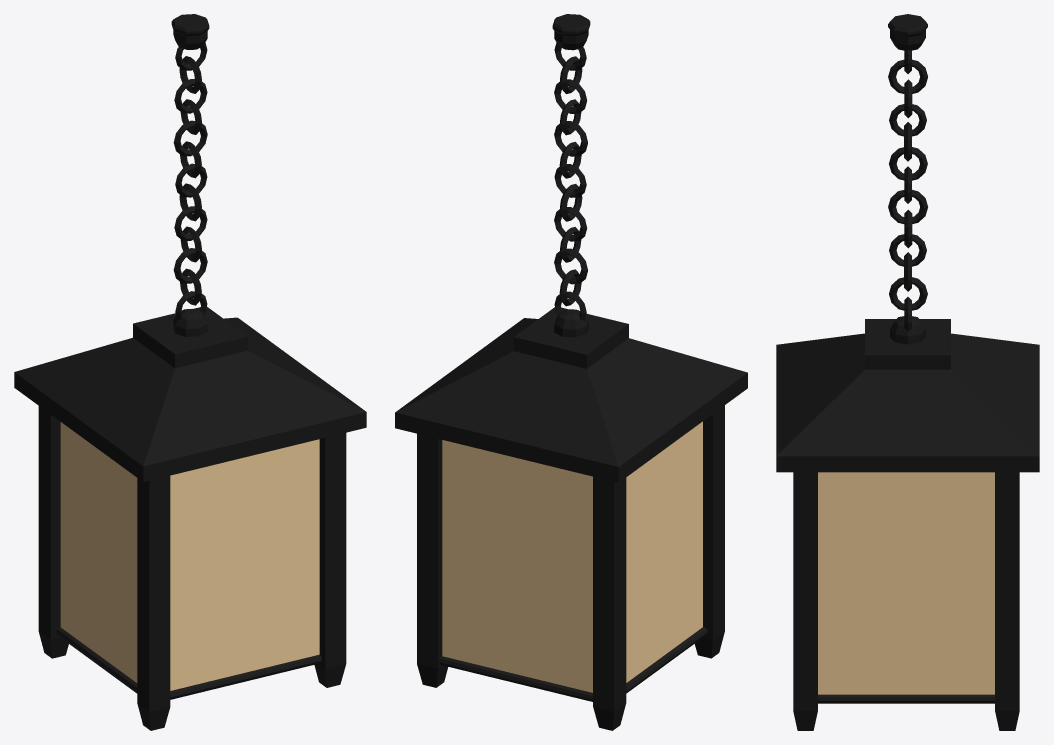
Rendered from outdoorLamp.obj.
3 renders of one model, left to right at view 1: azimuth 30°, elevation 25°; view 2: azimuth 150°, elevation 25°; view 3: azimuth 270°, elevation 25°, orthographic. The views are drawn at different scales.
Parts seen in each view (by area): view 1: Lamp_outdoor_01, Lamp_outdoor_Pane1, Lamp_outdoor_Pane4, Lamp_outdoor_chain; view 2: Lamp_outdoor_01, Lamp_outdoor_Pane3, Lamp_outdoor_Pane4, Lamp_outdoor_chain; view 3: Lamp_outdoor_01, Lamp_outdoor_Pane2, Lamp_outdoor_chain.
Part boxes in pixels (x1,y1,x2,y2): Lamp_outdoor_01: (14, 307, 366, 730); Lamp_outdoor_Pane1: (170, 439, 319, 690); Lamp_outdoor_Pane4: (60, 422, 137, 682); Lamp_outdoor_chain: (171, 14, 209, 319); Lamp_outdoor_01: (395, 307, 747, 730); Lamp_outdoor_Pane3: (442, 440, 592, 692); Lamp_outdoor_Pane4: (626, 421, 702, 682); Lamp_outdoor_chain: (552, 14, 590, 320); Lamp_outdoor_01: (776, 316, 1039, 730); Lamp_outdoor_Pane2: (818, 472, 994, 694); Lamp_outdoor_chain: (888, 14, 927, 331).
Size of the model in its own units: 21.33 by 59.07 by 21.33.
